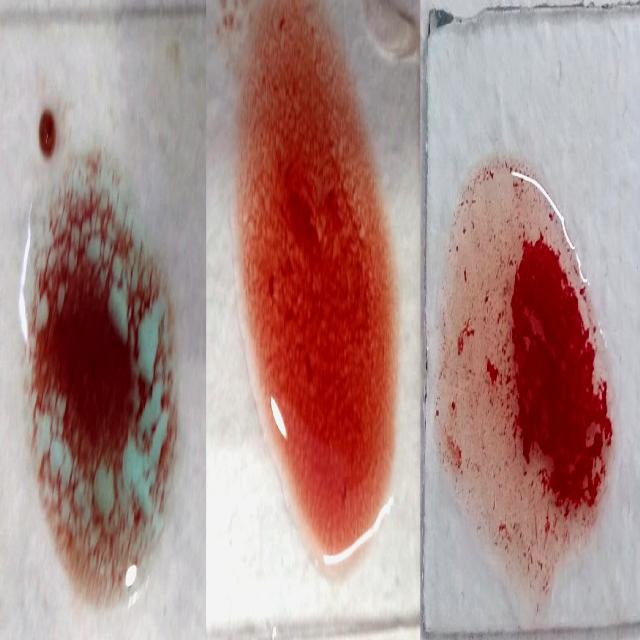A: (22, 175, 172, 606)
B: (238, 9, 384, 566)
D: (438, 167, 600, 606)
